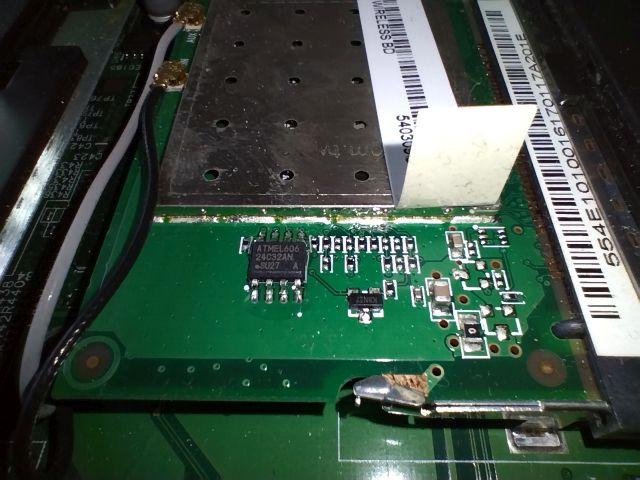capacitor: (424, 278, 454, 313), (446, 231, 461, 255)
resistor: (309, 238, 322, 252), (369, 240, 379, 251), (345, 239, 354, 250), (384, 258, 390, 269)
